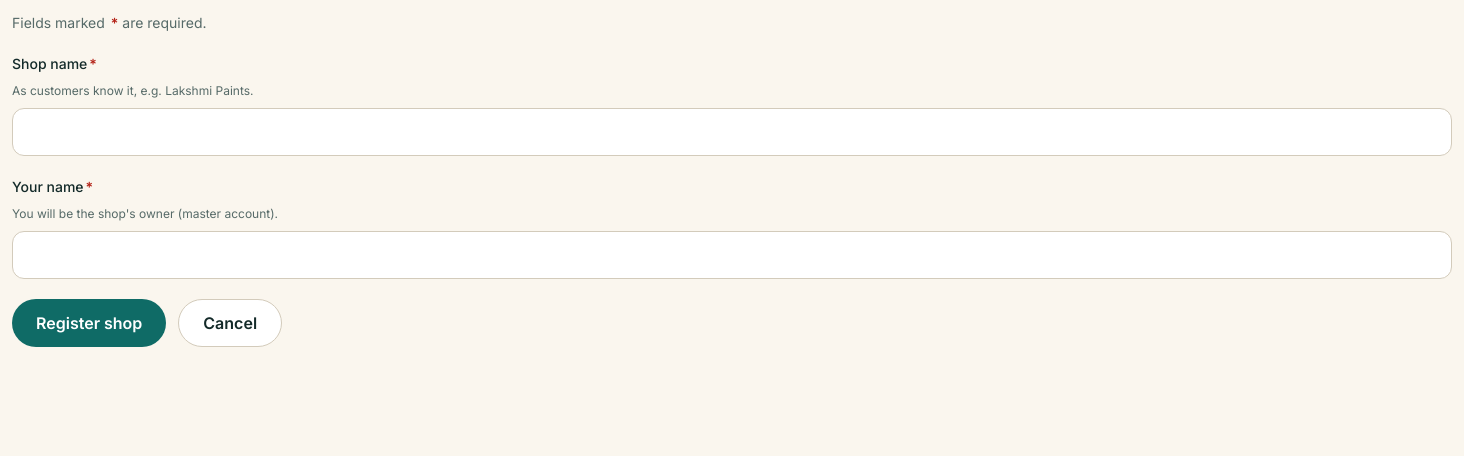
Test: RegisterShopForm › shows a form-level error from the API
Click the button "Register shop". click: click(89, 323)
box: [12,299,166,347]
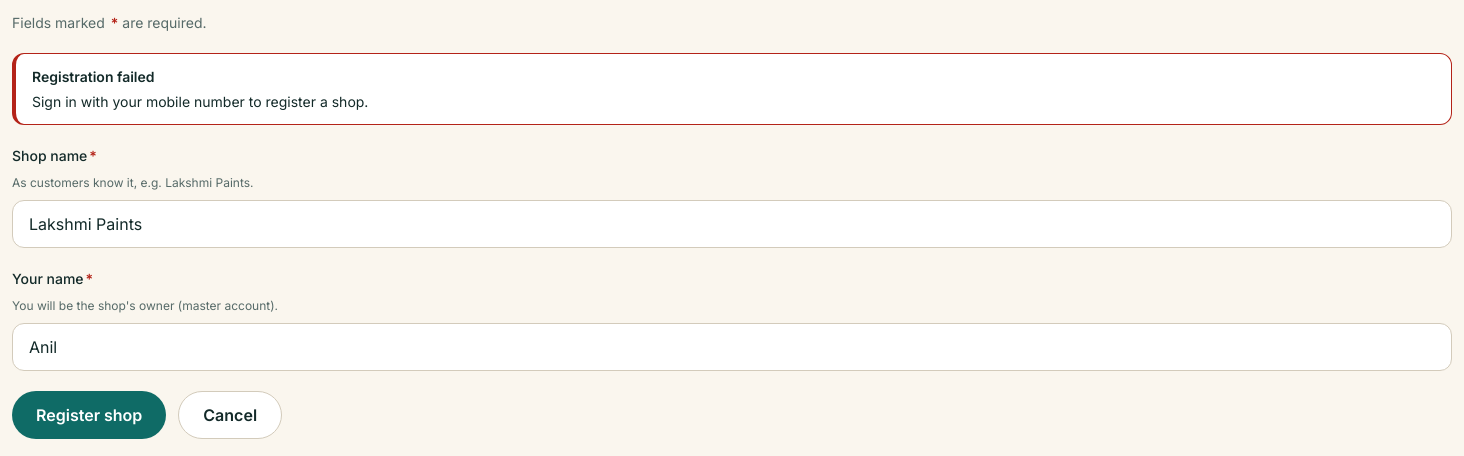
Now the message shows "Sign in with your mobile number", box [32,93,368,110]
